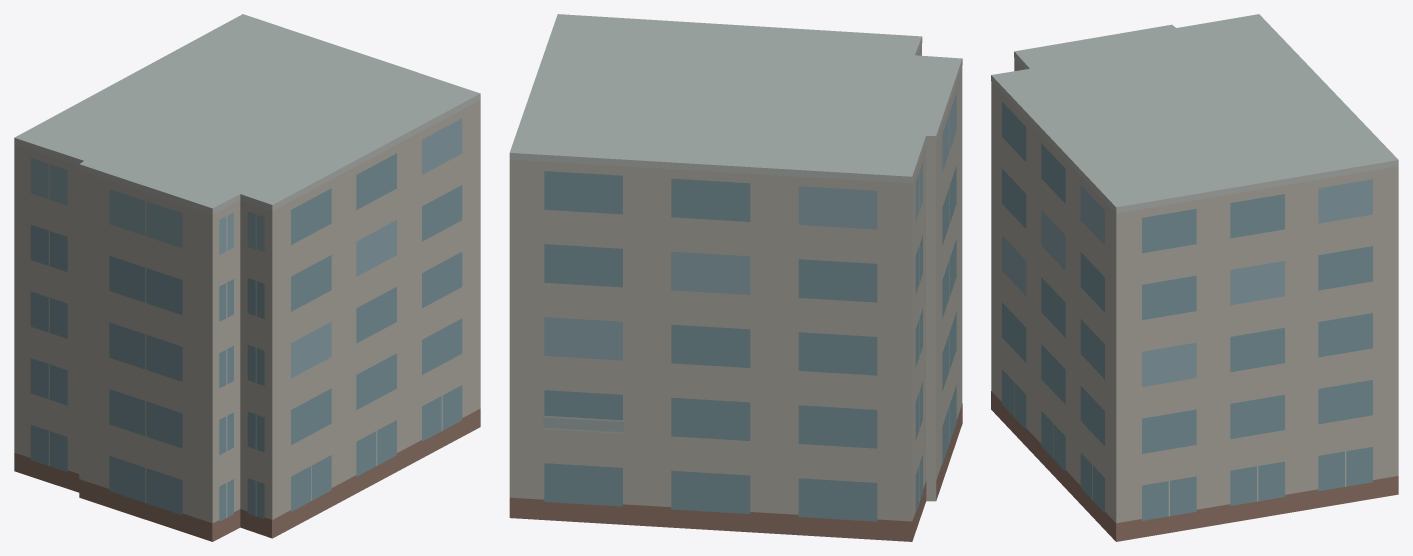
File: survey-upis-32891597.glb
3 renders of one model, left to right at view 1: azimuth 30°, elevation 25°; view 2: azimuth 150°, elevation 25°; view 3: azimuth 270°, elevation 25°, orthographic. The views are drawn at different scales.
Visible parts, largest first — view 1: survey-upis-32891597.tmp; view 2: survey-upis-32891597.tmp; view 3: survey-upis-32891597.tmp.
Part boxes in pixels (x1=…): survey-upis-32891597.tmp: x1=14, y1=14, x2=480, y2=541; survey-upis-32891597.tmp: x1=509, y1=14, x2=962, y2=541; survey-upis-32891597.tmp: x1=991, y1=14, x2=1398, y2=541.
Size of the model in its own units: 16.38 by 13.2 by 14.58.
